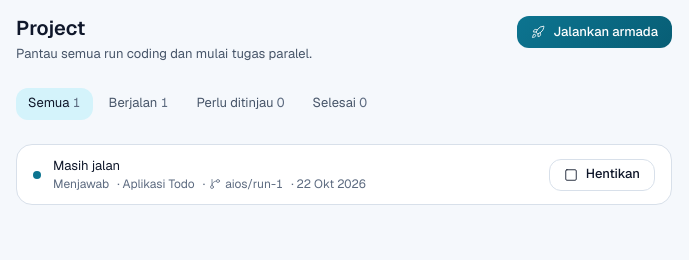
WorkspaceScreen › filter tanpa hasil: tombol Tampilkan semua run mengembalikan seluruh daftar
This screenshot has width=689, height=260.
Check: the text "Masih jalan" is shown, box x1=53 y1=157 x2=120 y2=174
Click the button "Selesai 0".
click(340, 104)  # box x1=301 y1=88 x2=379 y2=120
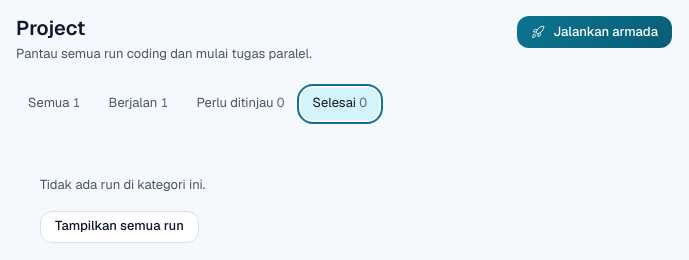
Click the button "Tampilkan semua run".
click(119, 227)  # box x1=40 y1=211 x2=199 y2=243
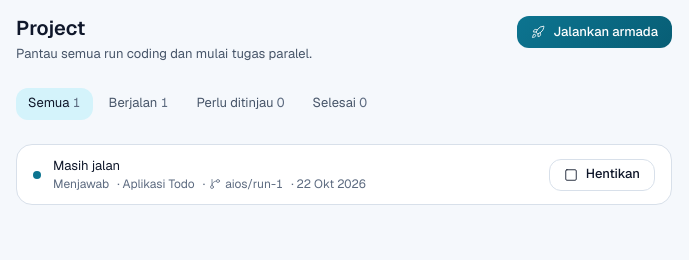
Check: the text "Masih jalan" is shown, box x1=53 y1=157 x2=120 y2=174
